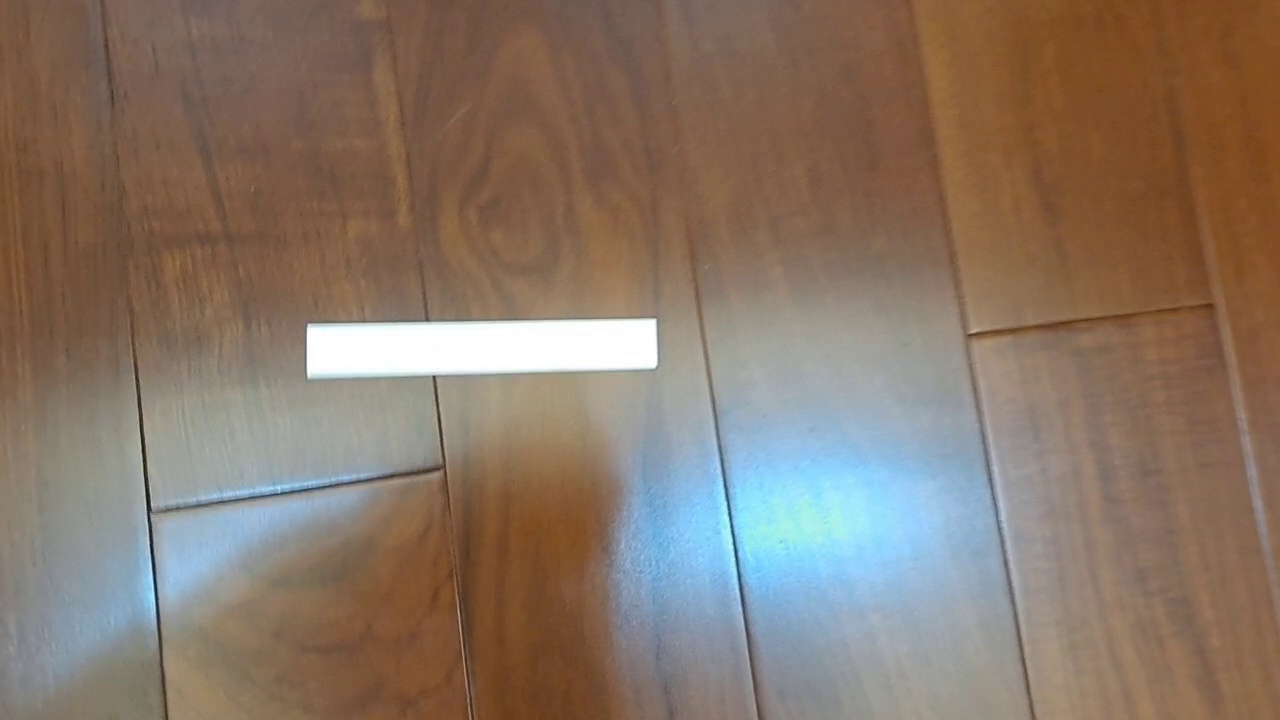ruler: (306, 316, 659, 381)
